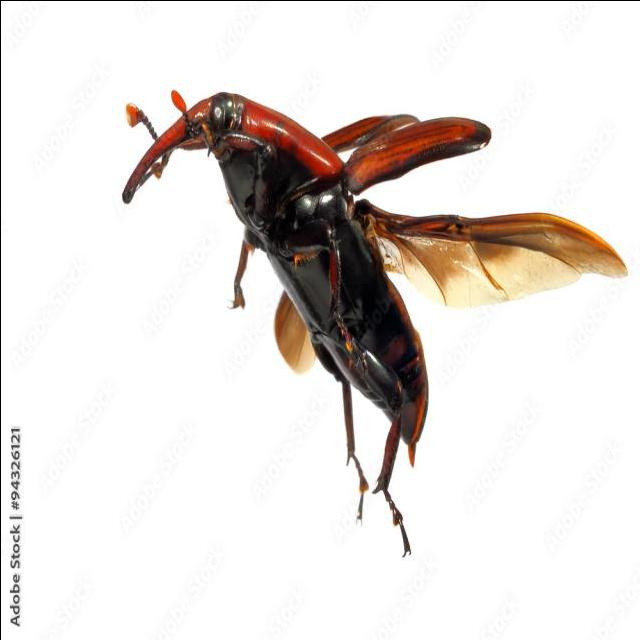Red-palm-weevil: (144, 54, 484, 536)
